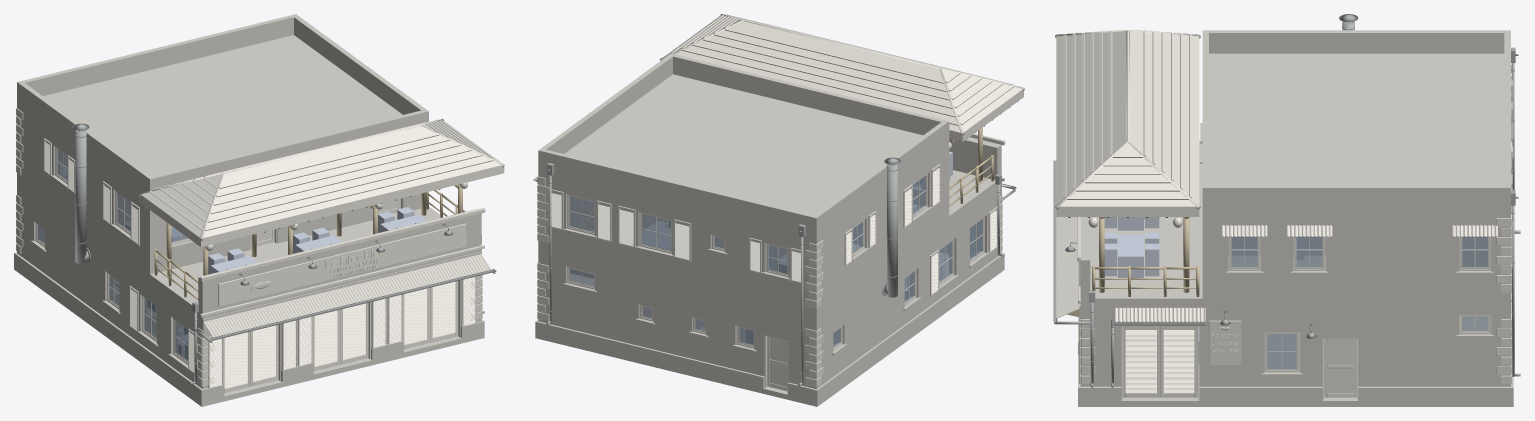
File: riviere_noire_H05.glb
3 views of the same model, side by side, from view 1: azimuth 30°, elevation 25°; view 2: azimuth 150°, elevation 25°; view 3: azimuth 270°, elevation 25° (orthographic). The views are drawn at different scales.
Visible parts, largest first — view 1: Shell_Structure, thatch_palm, thatch_palm_details, shutter_paint, weatherboard_cream, corrugated_rust, plaster_cream_warm, galvanized_steel, wood_weathered, glass, white_peeling_timber, DoorLeaf_01a_L_in (+7 smaller); view 2: Shell_Structure, thatch_palm, thatch_palm_details, shutter_paint, glass, plaster_cream_warm, white_peeling_timber, galvanized_steel, concrete_cast, DoorLeaf_12_L_in, wood_weathered, Ph_bedroom_bed_double_01; view 3: Shell_Structure, thatch_palm, thatch_palm_details, corrugated_rust, glass, galvanized_steel, plaster_cream_warm, white_peeling_timber, DoorLeaf_04b_R_in, DoorLeaf_04a_L_in, wood_weathered, DoorLeaf_05_L_in (+5 smaller).
Part boxes in pixels (x1=…): Shell_Structure: x1=14, y1=14, x2=484, y2=406; thatch_palm: x1=139, y1=120, x2=504, y2=247; thatch_palm_details: x1=138, y1=119, x2=504, y2=240; shutter_paint: x1=43, y1=138, x2=476, y2=388; weatherboard_cream: x1=218, y1=223, x2=466, y2=306; corrugated_rust: x1=203, y1=253, x2=491, y2=337; plaster_cream_warm: x1=16, y1=108, x2=485, y2=386; galvanized_steel: x1=72, y1=123, x2=496, y2=384; wood_weathered: x1=145, y1=184, x2=465, y2=299; glass: x1=38, y1=149, x2=187, y2=361; white_peeling_timber: x1=35, y1=147, x2=460, y2=383; DoorLeaf_01a_L_in: x1=250, y1=324, x2=278, y2=386; Shell_Structure: x1=535, y1=53, x2=1004, y2=406; thatch_palm: x1=664, y1=15, x2=1023, y2=141; thatch_palm_details: x1=659, y1=14, x2=1024, y2=135; shutter_paint: x1=548, y1=164, x2=997, y2=296; glass: x1=570, y1=176, x2=982, y2=347; plaster_cream_warm: x1=537, y1=133, x2=1005, y2=386; white_peeling_timber: x1=567, y1=173, x2=984, y2=387; galvanized_steel: x1=546, y1=157, x2=1016, y2=386; concrete_cast: x1=563, y1=206, x2=989, y2=355; DoorLeaf_12_L_in: x1=767, y1=336, x2=788, y2=391; wood_weathered: x1=535, y1=101, x2=1018, y2=228; Ph_bedroom_bed_double_01: x1=642, y1=224, x2=670, y2=250; Shell_Structure: x1=1078, y1=30, x2=1513, y2=406; thatch_palm: x1=1056, y1=30, x2=1199, y2=216; thatch_palm_details: x1=1055, y1=30, x2=1200, y2=209; corrugated_rust: x1=1056, y1=160, x2=1497, y2=322; glass: x1=1231, y1=236, x2=1488, y2=368; galvanized_steel: x1=1053, y1=14, x2=1520, y2=387; plaster_cream_warm: x1=1077, y1=63, x2=1511, y2=383; white_peeling_timber: x1=1121, y1=236, x2=1491, y2=399; DoorLeaf_04b_R_in: x1=1122, y1=327, x2=1160, y2=397; DoorLeaf_04a_L_in: x1=1160, y1=327, x2=1197, y2=397; wood_weathered: x1=1067, y1=216, x2=1199, y2=317; DoorLeaf_05_L_in: x1=1324, y1=339, x2=1356, y2=397.
Bounding box in the file's own units: 12.64 × 8.2 × 14.39.
